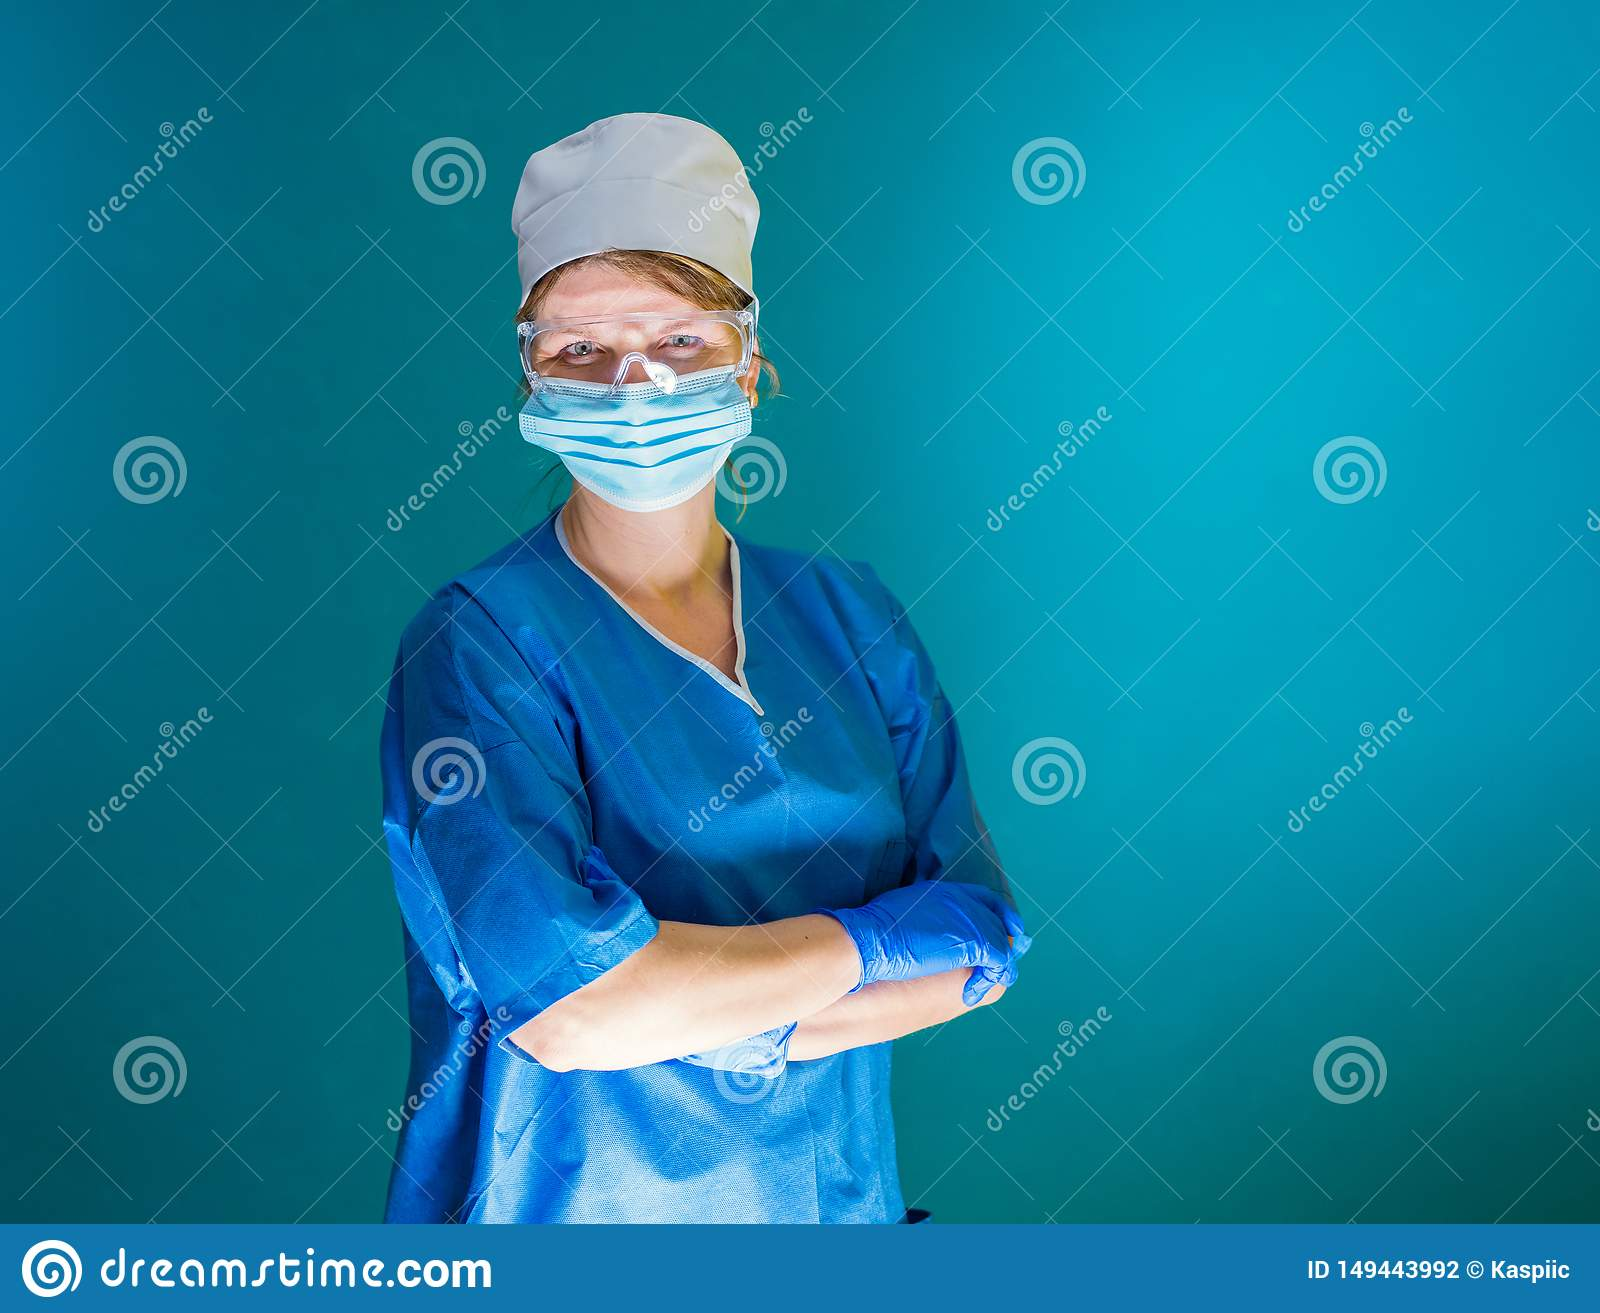mask: (530, 375, 765, 513)
